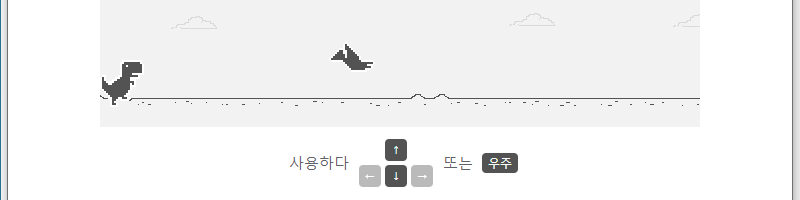dinosaur: (101, 62, 142, 106)
obstacle: (328, 43, 375, 73)
